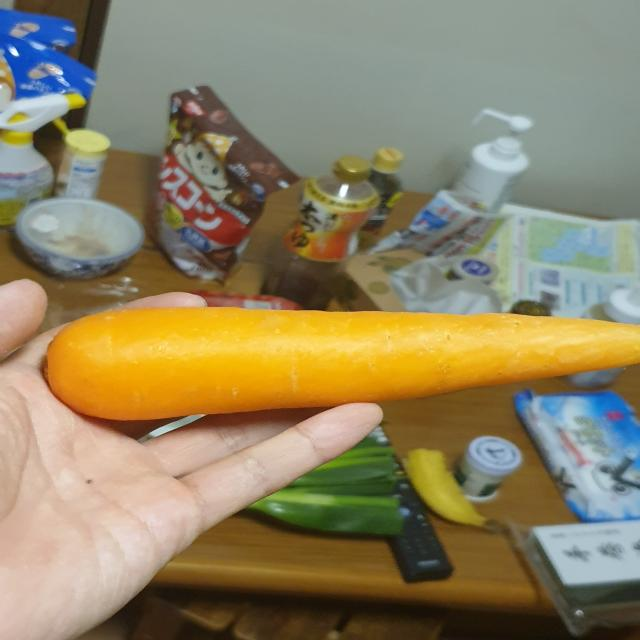carrot: (41, 294, 640, 429)
